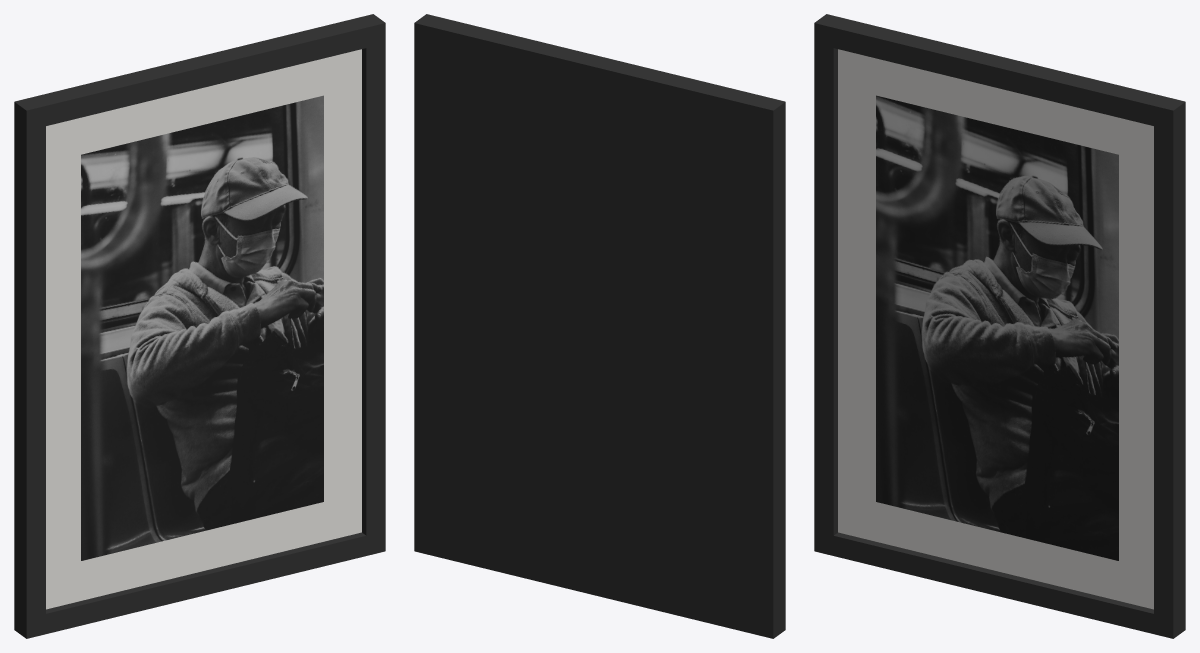
Rendered from pendlaren-40.gltf.
The picture shows the model from 3 angles, left to right: view 1: azimuth 30°, elevation 25°; view 2: azimuth 150°, elevation 25°; view 3: azimuth 330°, elevation 25°; orthographic projection.
Parts seen in each view (by area): view 1: tavla; view 2: tavla; view 3: tavla.
Boxes of the visible parts, bbox=[...] form: tavla: bbox=[14, 14, 385, 638]; tavla: bbox=[414, 14, 785, 638]; tavla: bbox=[814, 14, 1185, 638].
Bounding box in the file's own units: 0.37 × 0.52 × 0.022.
3 materials, 1 textured.
